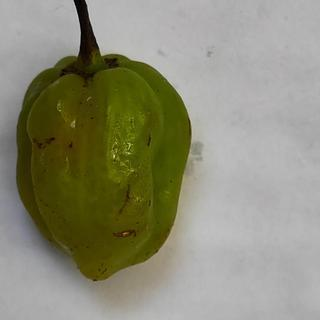Defect: (108, 225, 142, 243), (26, 135, 61, 152)
Fly-bites: (67, 139, 75, 150)
striped: (113, 180, 135, 217), (145, 133, 153, 151)
